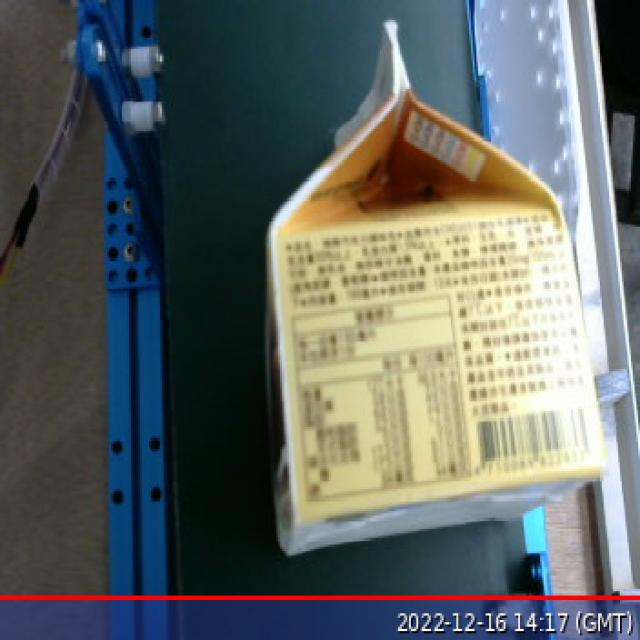non_white_jug: (245, 8, 619, 566)
